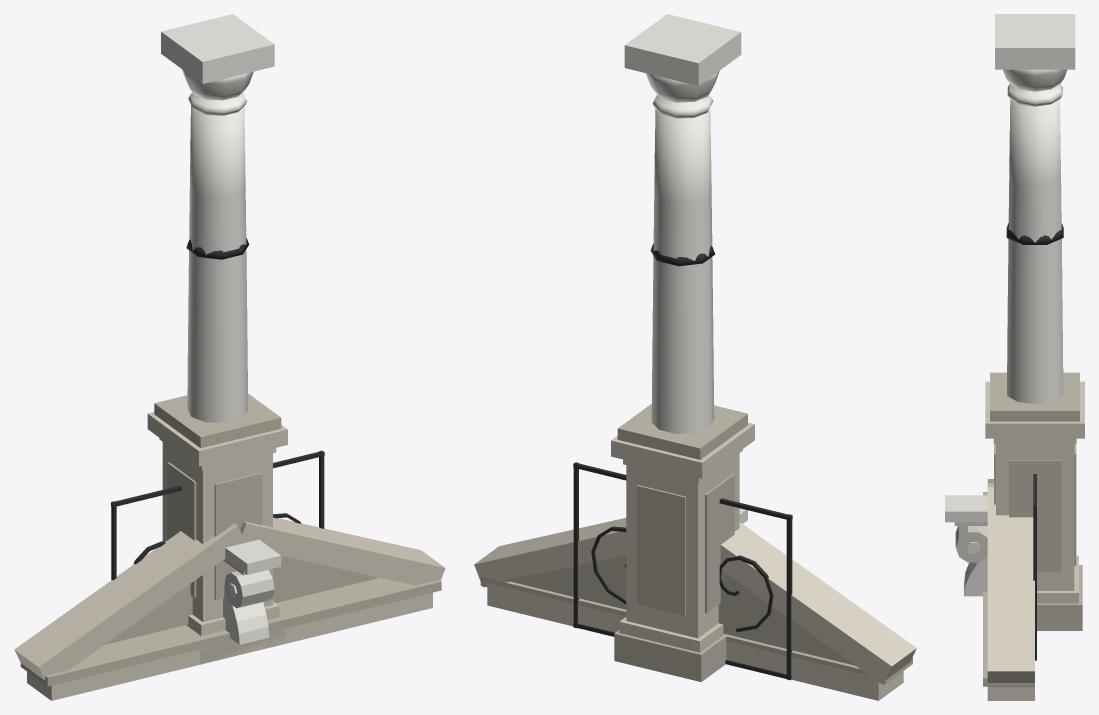
File: kit-medium.glb
The picture shows the model from 3 angles, left to right: view 1: azimuth 30°, elevation 25°; view 2: azimuth 150°, elevation 25°; view 3: azimuth 270°, elevation 25°; orthographic projection. The views are drawn at different scales.
Parts seen in each view (by area): view 1: Shaft.002, Raking cornice, Bed drip, Raking cornice.001, Bed cornice, Abacus.001, Die, Tympanum face, Cap top, Panel.005, Cap, Panel.002 (+8 smaller); view 2: Shaft.002, Raking cornice, Die, Tympanum back, Bed cornice, Panel.003, Abacus.001, Raking cornice.001, Cap top, Plinth, Cap, Panel.002 (+8 smaller); view 3: Shaft.002, Raking cornice.001, Abacus.001, Die, Panel.004, Cap top, Cap, Plinth, Top block, Echinus, Front volute, Astragal (+8 smaller).
Boxes of the visible parts, left/top/right/bottom form: Shaft.002: left=187, top=105, right=248, bottom=422; Raking cornice: left=14, top=523, right=245, bottom=680; Bed drip: left=20, top=577, right=441, bottom=686; Raking cornice.001: left=238, top=517, right=445, bottom=585; Bed cornice: left=27, top=592, right=432, bottom=700; Abacus.001: left=161, top=14, right=274, bottom=83; Die: left=162, top=442, right=272, bottom=621; Tympanum face: left=105, top=555, right=379, bottom=644; Cap top: left=154, top=393, right=281, bottom=448; Panel.005: left=214, top=473, right=262, bottom=599; Cap: left=147, top=412, right=287, bottom=466; Panel.002: left=167, top=462, right=196, bottom=597; Shaft.002: left=651, top=107, right=714, bottom=433; Raking cornice: left=720, top=522, right=916, bottom=684; Die: left=626, top=453, right=739, bottom=638; Tympanum back: left=505, top=555, right=860, bottom=666; Bed cornice: left=487, top=583, right=903, bottom=700; Panel.003: left=637, top=485, right=685, bottom=615; Abacus.001: left=624, top=14, right=741, bottom=85; Raking cornice.001: left=474, top=518, right=626, bottom=587; Cap top: left=617, top=403, right=747, bottom=459; Plinth: left=614, top=630, right=726, bottom=681; Cap: left=611, top=422, right=754, bottom=478; Panel.002: left=705, top=474, right=734, bottom=613; Shaft.002: left=1007, top=99, right=1063, bottom=404; Raking cornice.001: left=987, top=487, right=1034, bottom=686; Abacus.001: left=995, top=14, right=1075, bottom=69; Die: left=996, top=443, right=1074, bottom=590; Panel.004: left=1009, top=460, right=1061, bottom=572; Cap top: left=990, top=372, right=1079, bottom=421; Cap: left=985, top=381, right=1084, bottom=438; Plinth: left=1037, top=565, right=1082, bottom=630; Top block: left=945, top=495, right=987, bottom=522; Echinus: left=1003, top=69, right=1067, bottom=91; Front volute: left=955, top=526, right=987, bottom=562; Astragal: left=1007, top=84, right=1062, bottom=106.
Bounding box in the file's own units: 1.92 × 2.7 × 0.59.
